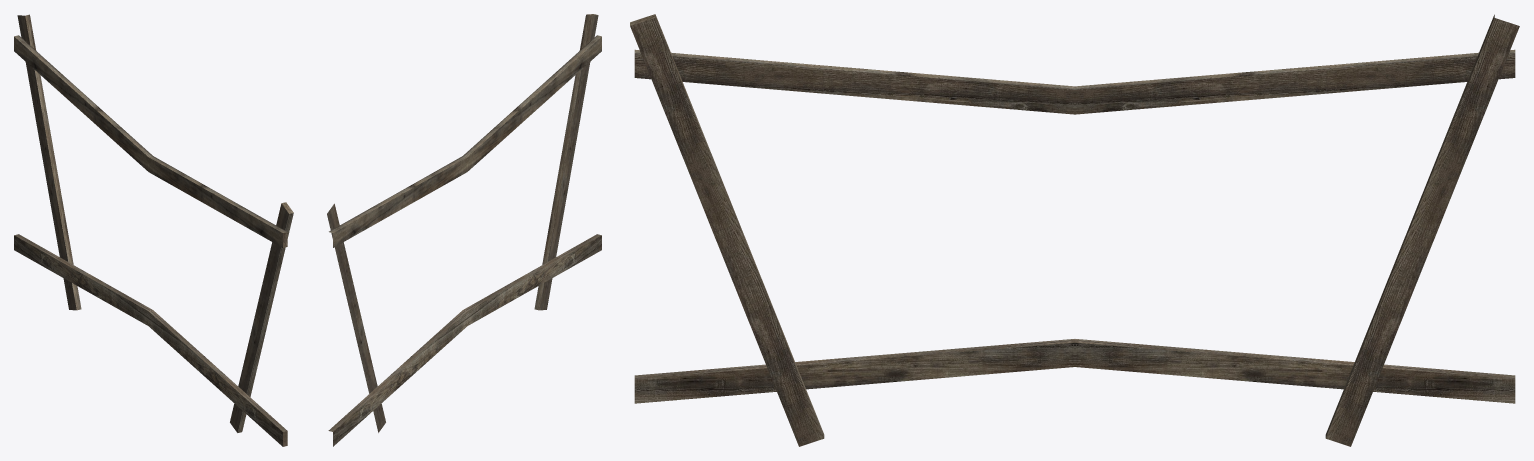
Rendered from trenchframe02.glb.
The picture shows the model from 3 angles, left to right: view 1: azimuth 30°, elevation 25°; view 2: azimuth 150°, elevation 25°; view 3: azimuth 270°, elevation 25°; orthographic projection. The views are drawn at different scales.
Bounding box in the file's own units: 4 × 105 × 198.
1 material, 1 textured.
